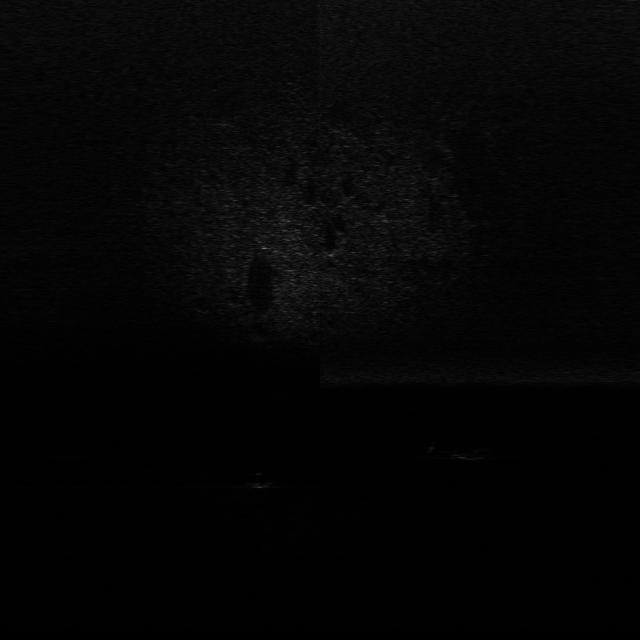ball: (243, 469, 278, 492)
human body: (426, 438, 503, 464)
